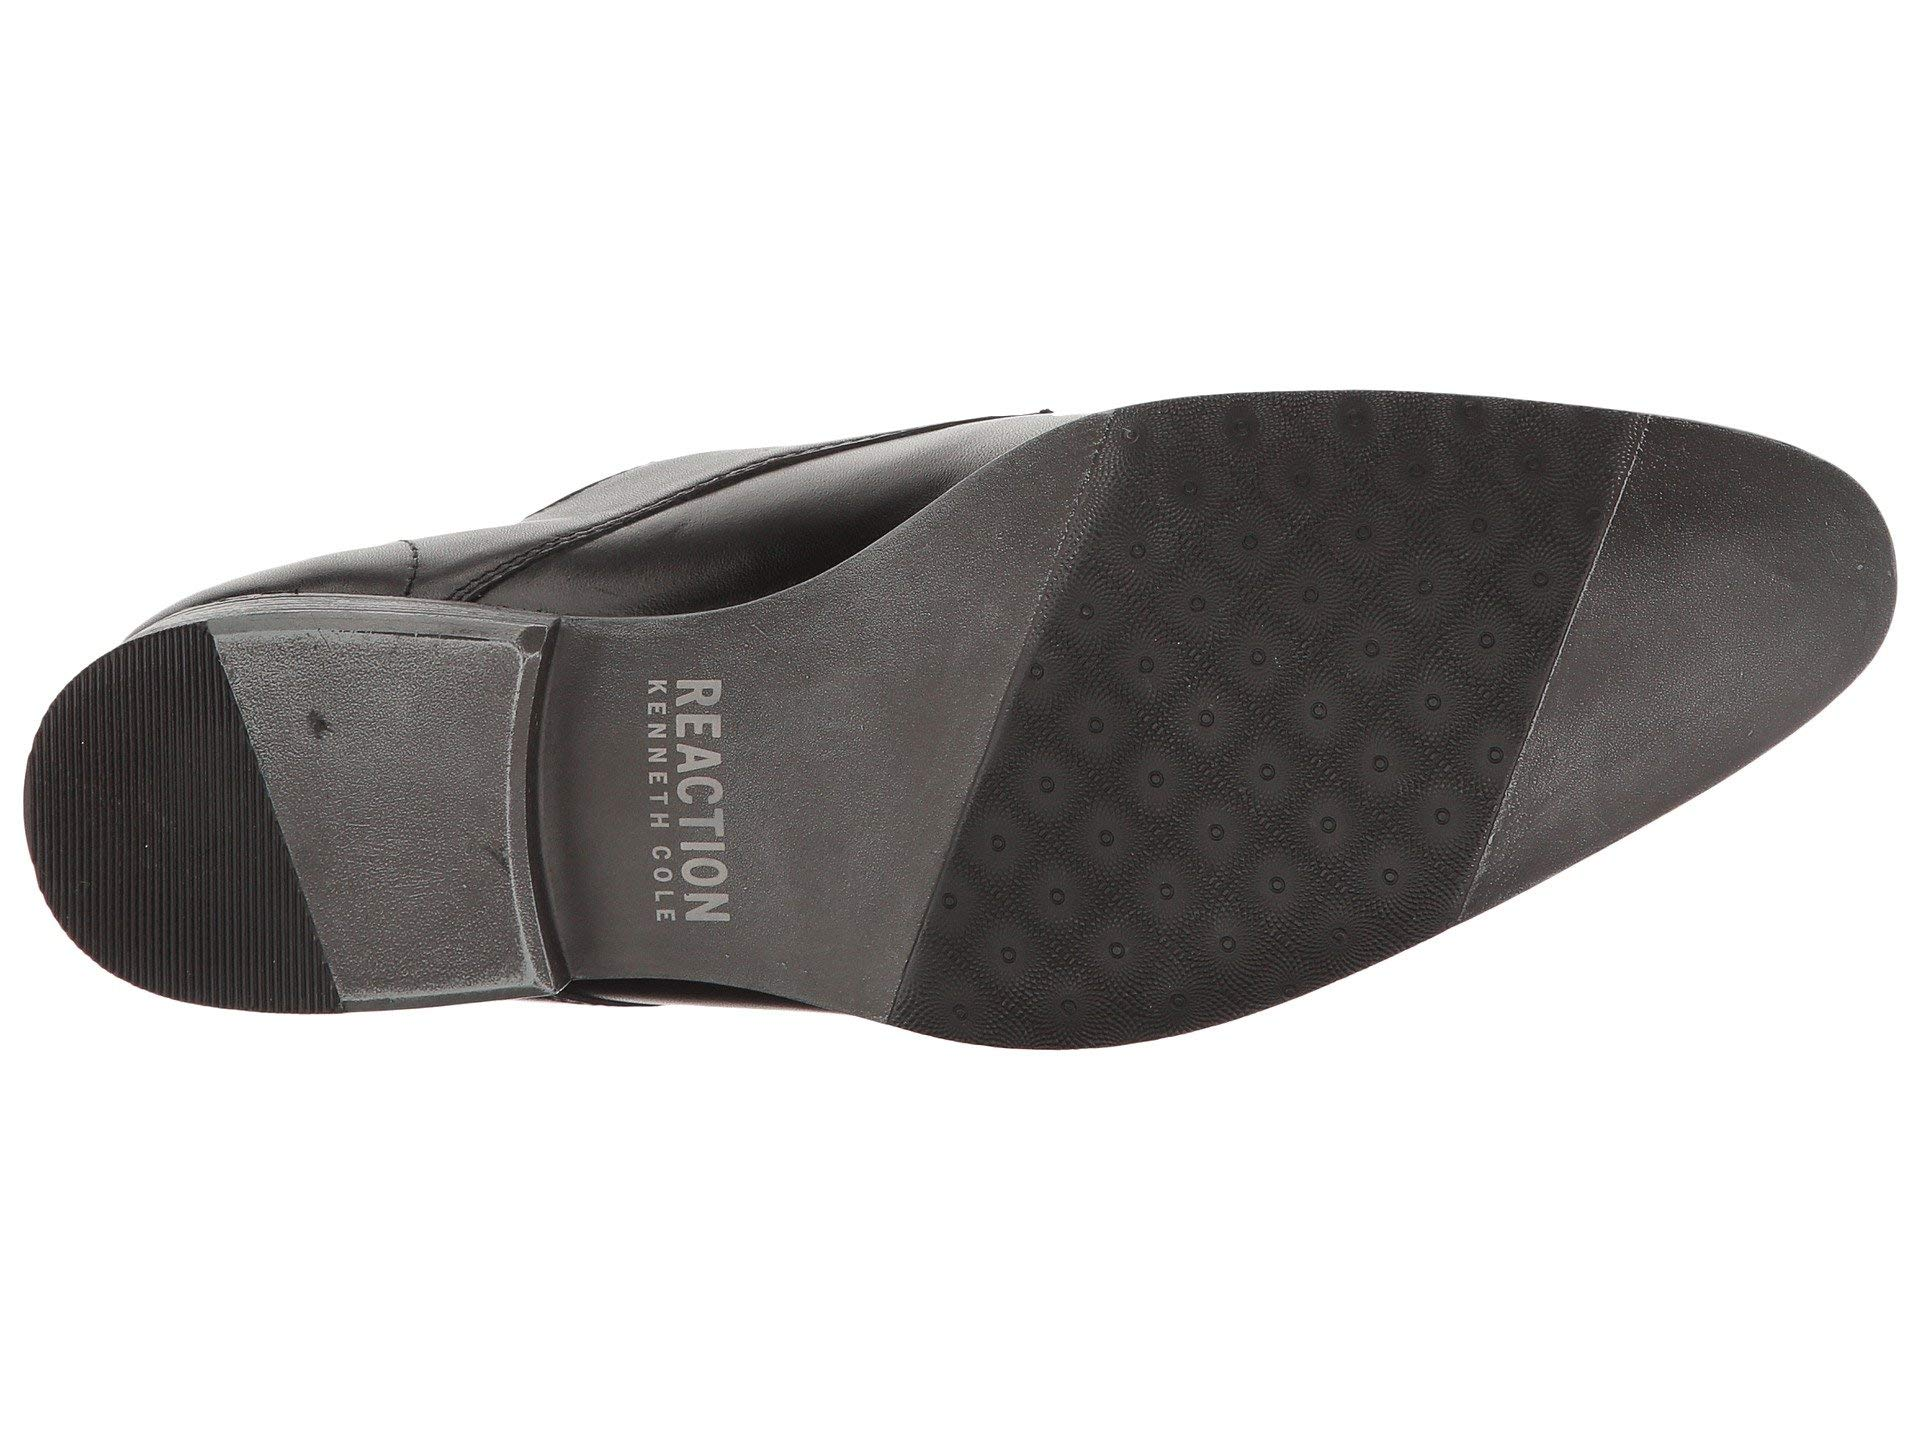circle: (1116, 481, 1525, 936)
quad: (1116, 481, 1525, 936)
